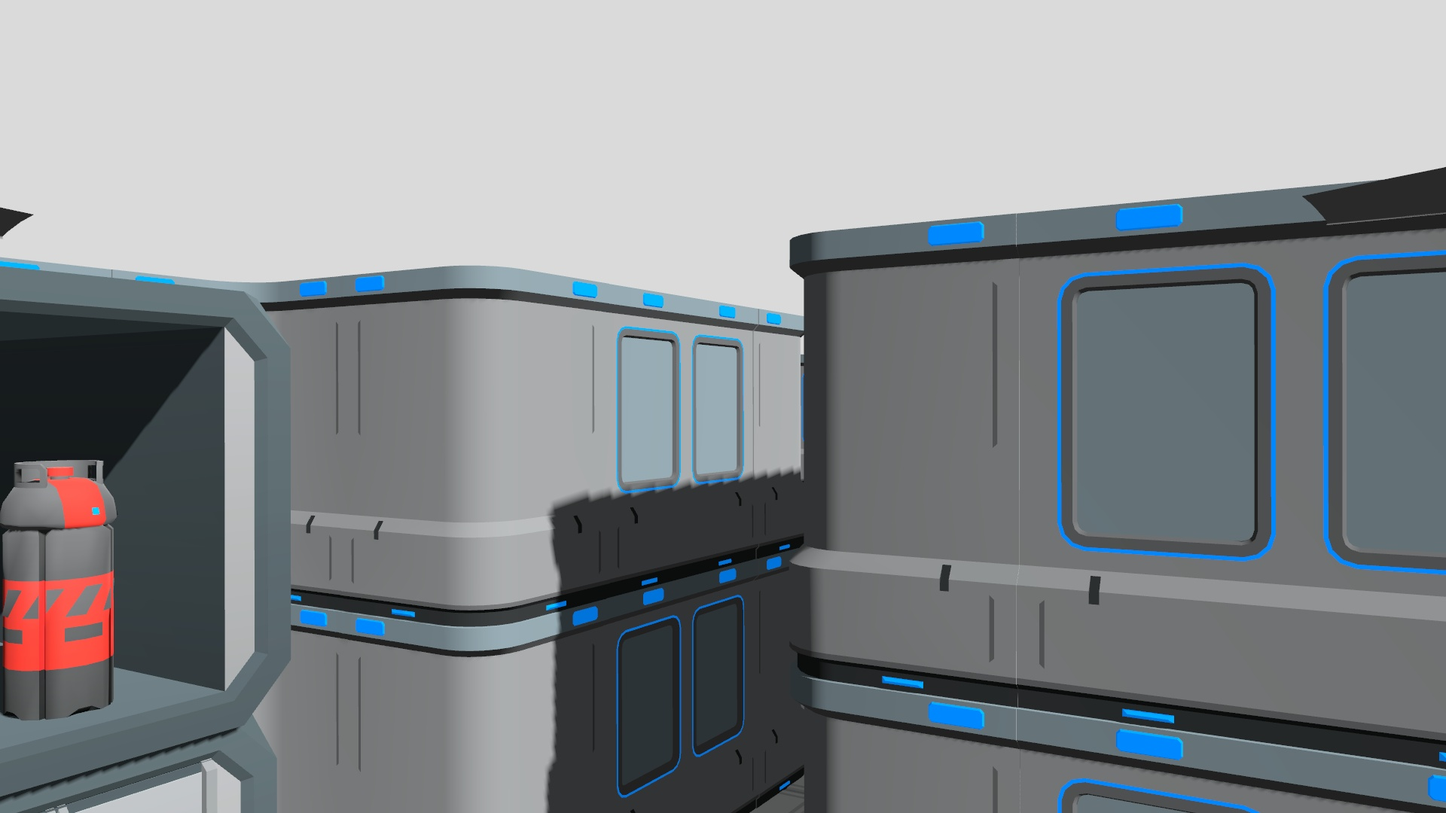red_barrel: (0, 453, 119, 721)
